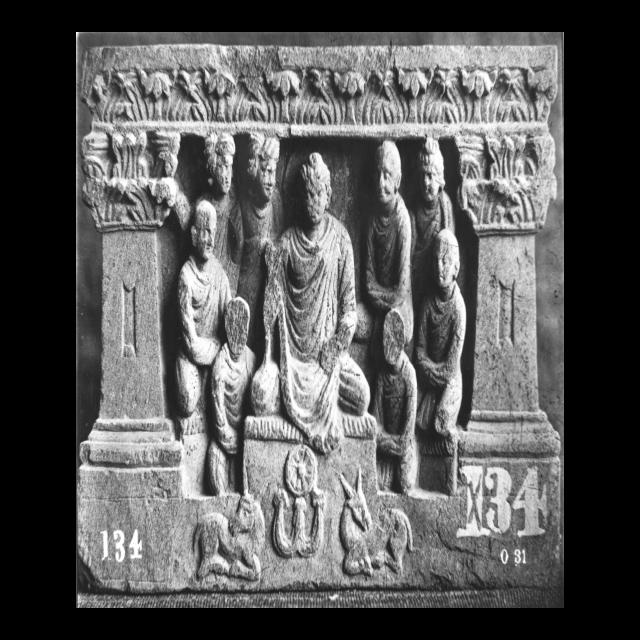buddha-sitting: (244, 153, 376, 510)
